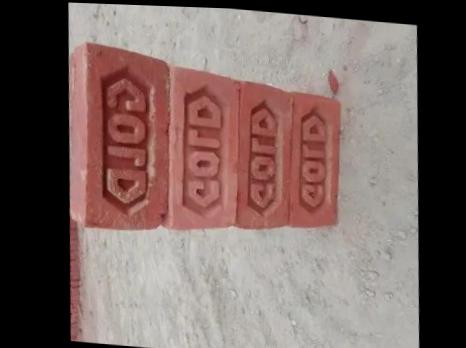brick: (73, 43, 181, 236), (162, 63, 250, 230), (230, 81, 301, 230), (283, 93, 349, 230)
